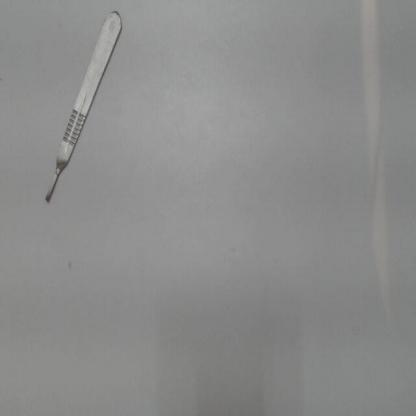No.3 BP Handle: (32, 10, 135, 214)
